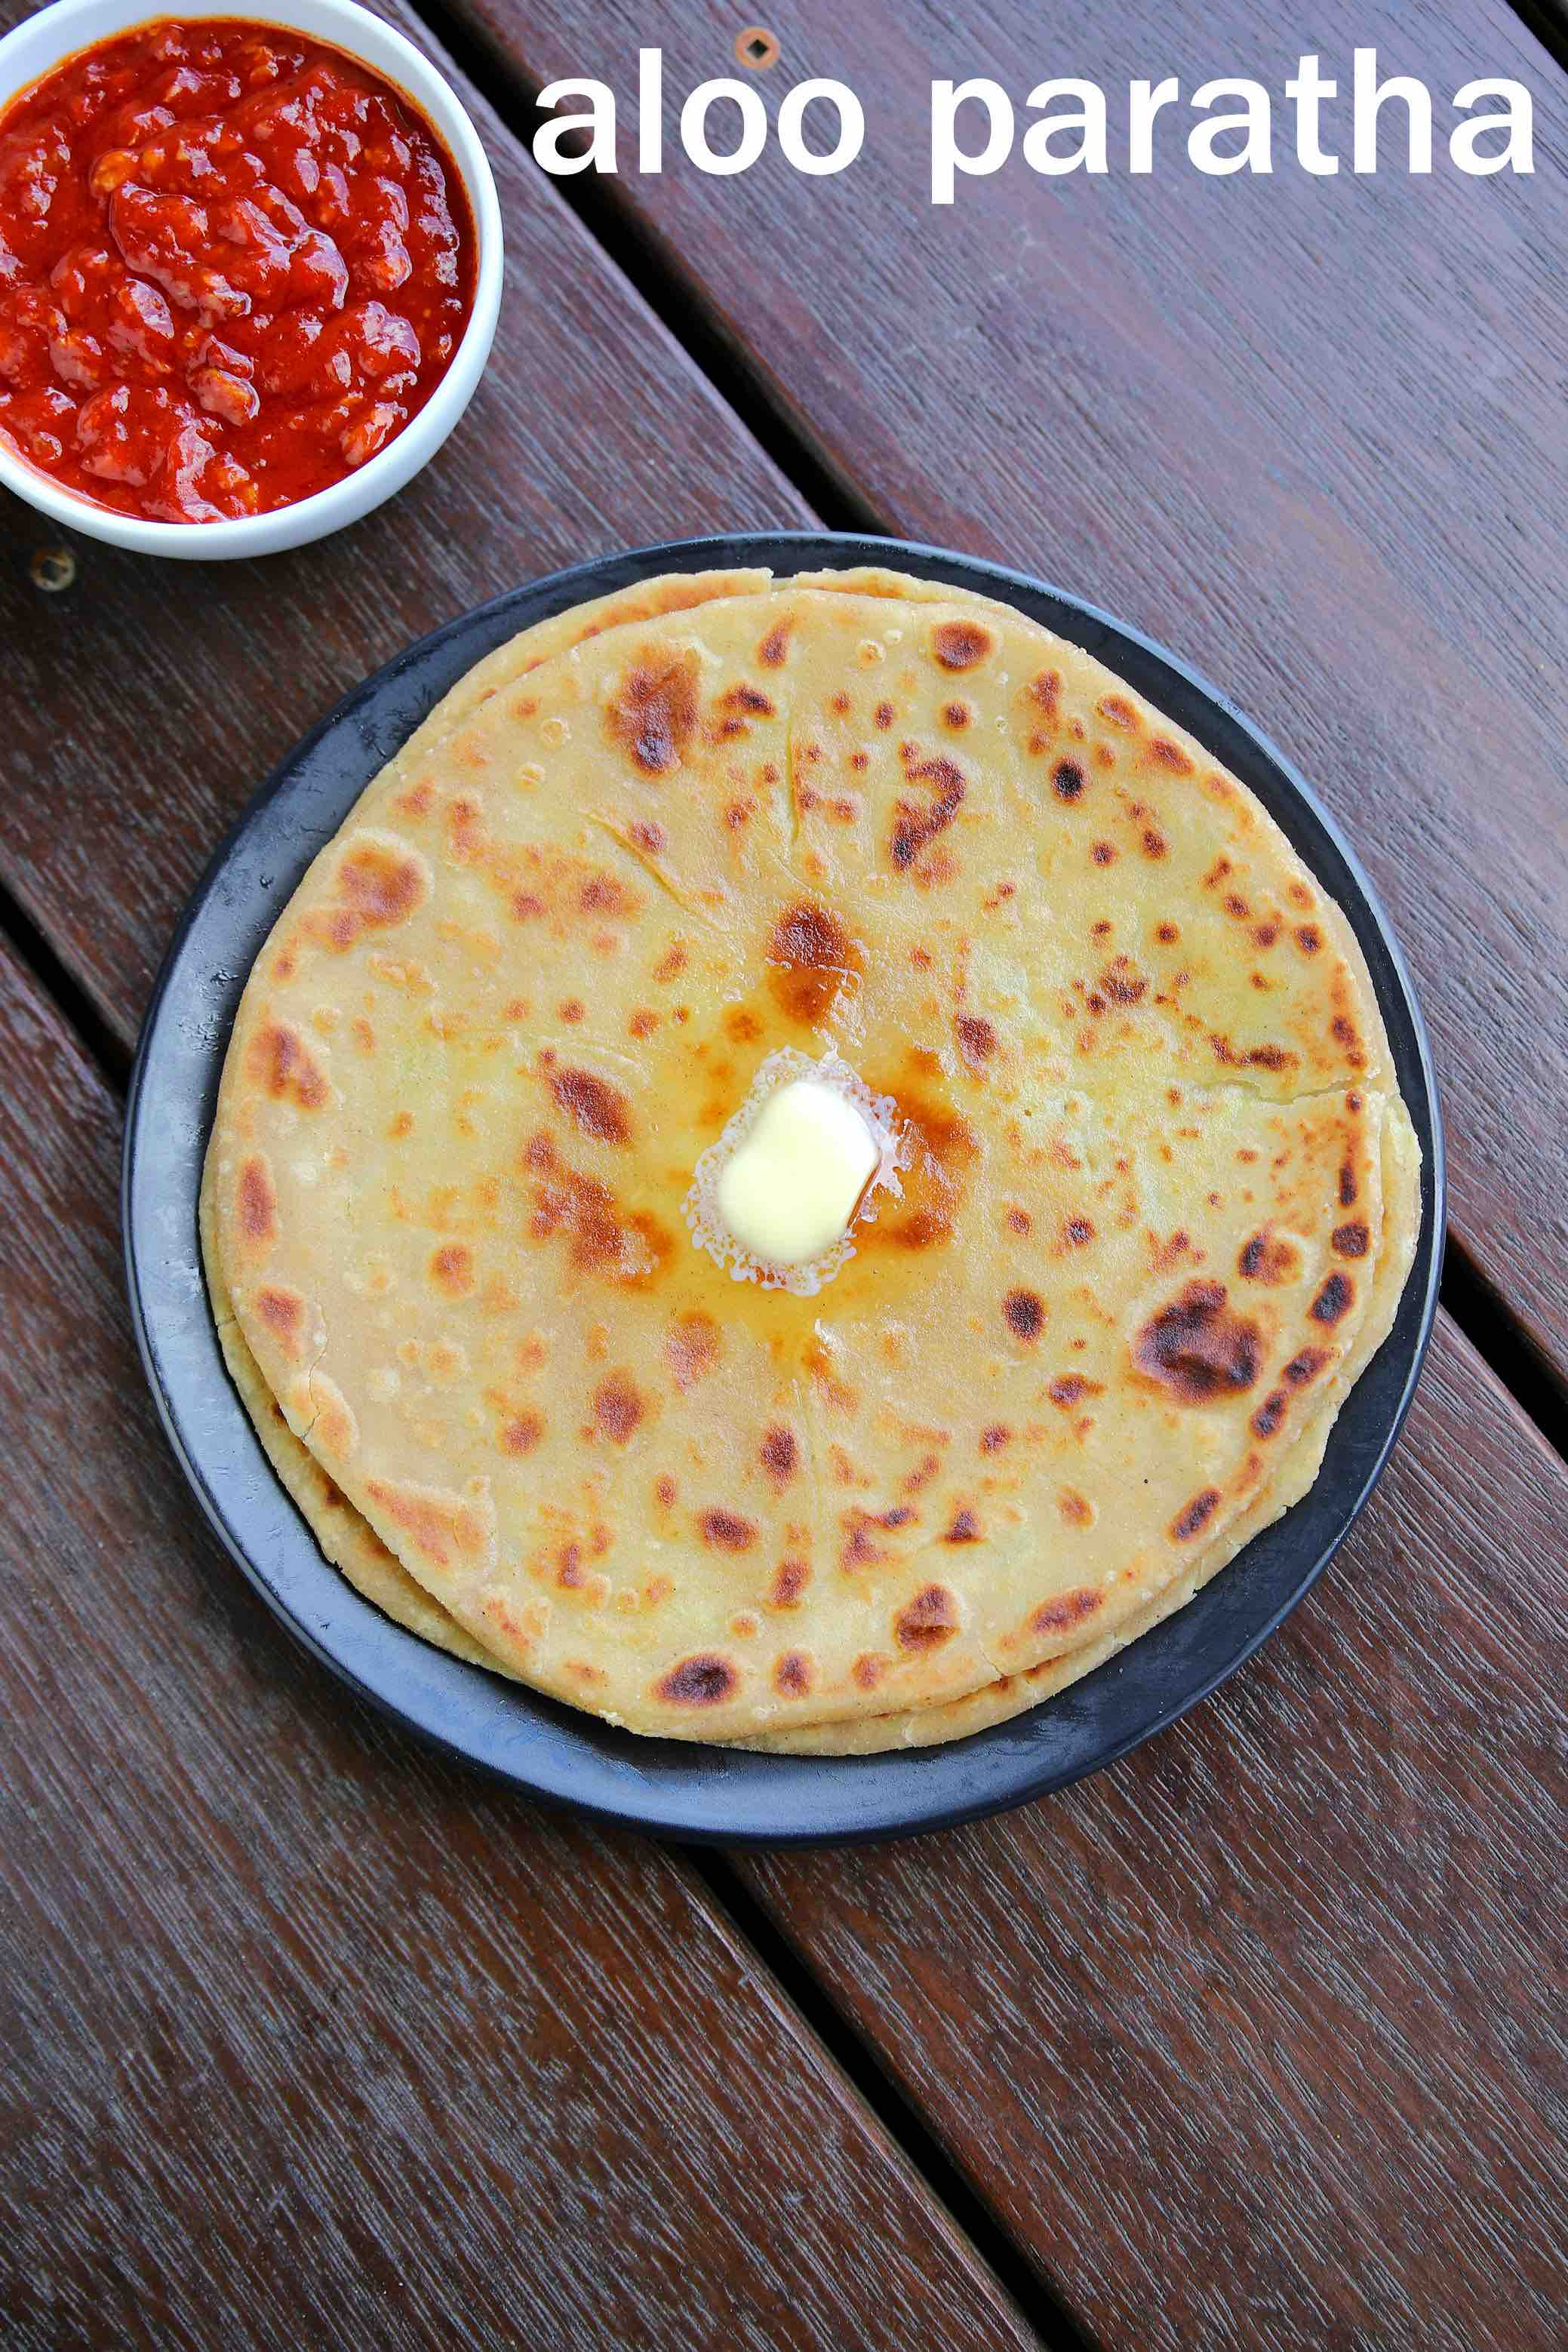aloo_paratha: (199, 567, 1451, 1781)
